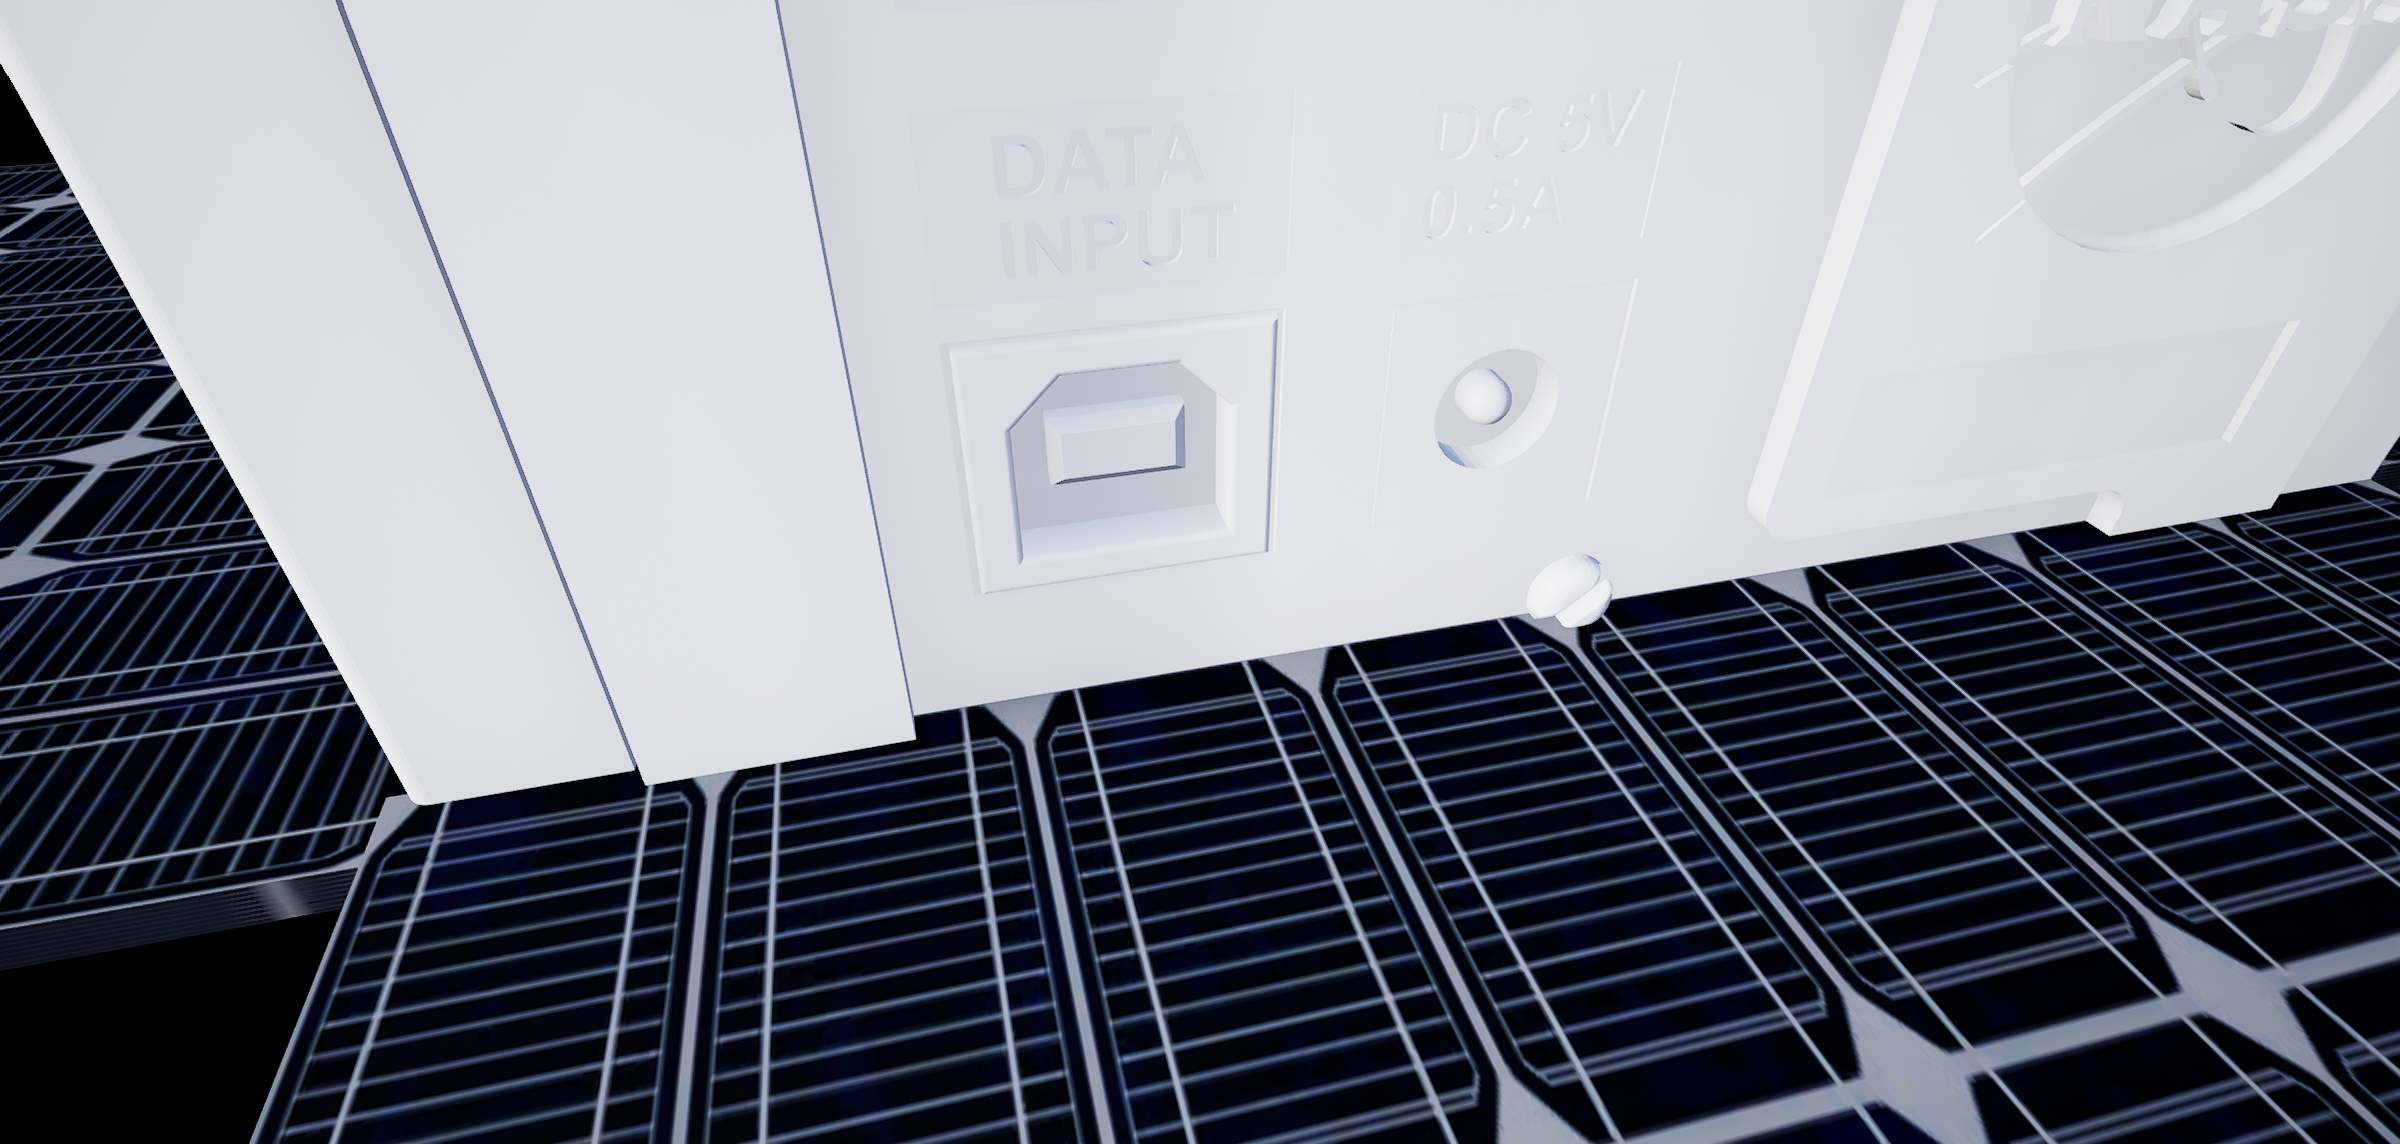dc: (1430, 345, 1573, 476)
usb: (993, 363, 1241, 573)
